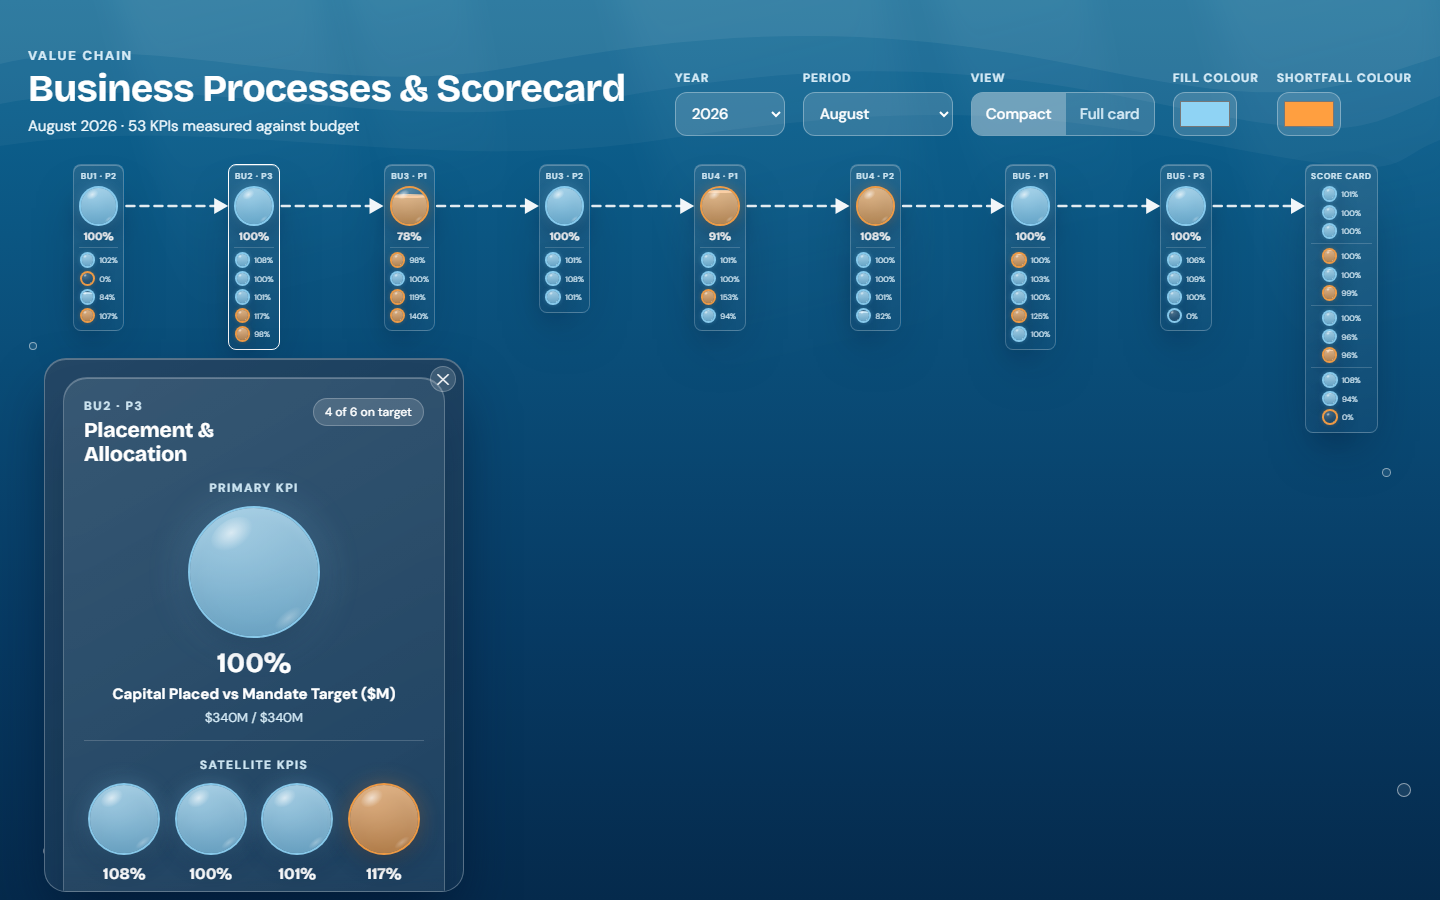

The dashboard page shown, as its layout file describes it:
{"tool":"powerbi","page":{"name":"Page 1","canvas":[1920,1080],"ordinal":0},"visuals":[{"type":"valueChainVisualiserE2BF44FFB3A34F0CB6D06A2CB79AE14B","fields":{"node":["Query1.node"],"nodeOrder":["Query1.nodeOrder"],"group":["Query1.group"],"subGroup":["Query1.subGroup"],"metric":["Query1.metric"],"operator":["Query1.operator"],"valueType":["Query1.valueType"],"symbol":["Query1.symbol"],"year":["Query1.year"],"period":["Query1.period"],"actual":["Sum(Query1.actual)"],"budget":["Sum(Query1.budget)"]},"box":[10.6,72.4,1768.1,1006.3],"z":0},{"type":"slicer","fields":{"Values":["Query1.year"]},"box":[911.2,16.6,247.4,55.8],"z":1},{"type":"slicer","fields":{"Values":["Query1.period"]},"box":[1169.2,16.6,274.6,55.8],"z":2}]}

Visuals, with their boxes on the page's 1920x1080 design canvas (x1, y1, x2, y2). These are canvas units, not pixel positions in the 1440x900 screenshot, which may show the page scaled, cropped or inside an application window:
valueChainVisualiserE2BF44FFB3A34F0CB6D06A2CB79AE14B - Query1.node x Query1.nodeOrder: (11,72,1779,1079)
slicer - Query1.year: (911,17,1159,72)
slicer - Query1.period: (1169,17,1444,72)
